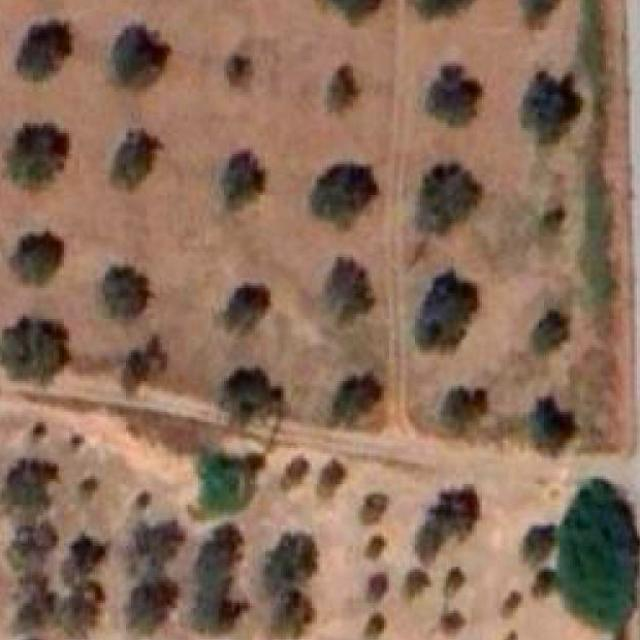Tree: (558, 479, 640, 639), (182, 528, 242, 635), (411, 166, 485, 239), (409, 272, 479, 348), (410, 484, 479, 558), (303, 157, 377, 223), (0, 314, 66, 387), (513, 74, 580, 144), (4, 118, 69, 189), (109, 16, 172, 89), (9, 17, 76, 84), (191, 453, 265, 510), (416, 63, 484, 123), (94, 262, 155, 324), (222, 369, 286, 426), (109, 126, 162, 191), (432, 381, 490, 440), (118, 515, 182, 567), (322, 254, 376, 314), (522, 394, 576, 452), (54, 582, 107, 640), (8, 231, 66, 282), (12, 518, 64, 572), (215, 154, 265, 210), (0, 456, 57, 505), (219, 281, 270, 335), (258, 536, 317, 582), (334, 371, 384, 422), (118, 340, 169, 390), (132, 582, 181, 632), (7, 580, 51, 634), (318, 0, 392, 31), (61, 531, 108, 579), (269, 592, 319, 637), (511, 520, 559, 564), (528, 308, 572, 354), (406, 0, 484, 25), (324, 61, 363, 110), (513, 0, 567, 33), (522, 567, 560, 607), (223, 48, 255, 92), (359, 492, 391, 530), (284, 458, 312, 499), (318, 458, 348, 494), (398, 562, 434, 592), (357, 566, 392, 596), (434, 606, 464, 640), (437, 564, 468, 594), (360, 611, 391, 639), (496, 586, 518, 618), (31, 420, 54, 446), (79, 468, 100, 496), (134, 487, 157, 512), (370, 530, 386, 558), (15, 630, 54, 640), (67, 429, 85, 450)
